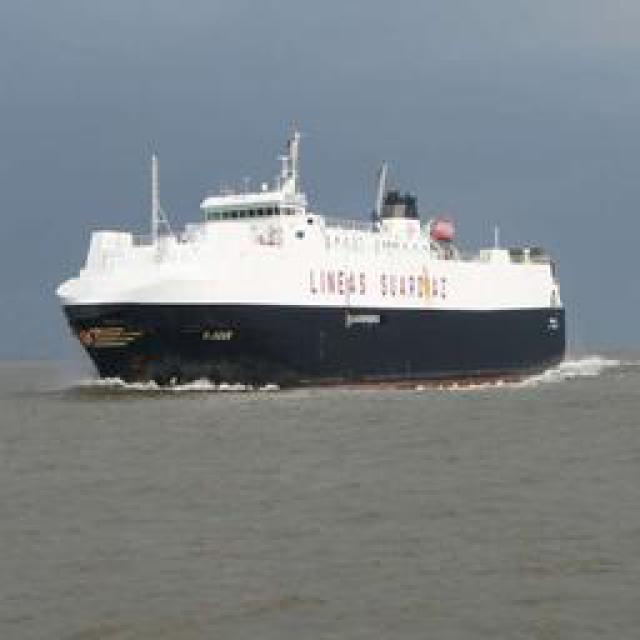Ship: (54, 126, 569, 376)
